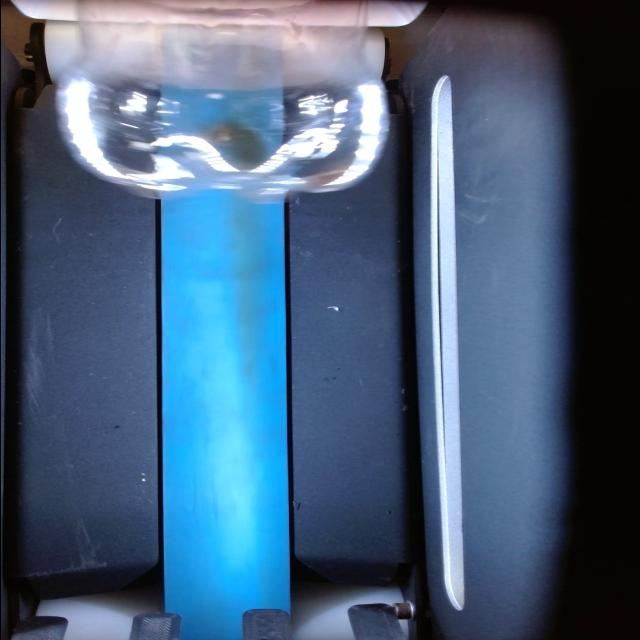bottom: (41, 90, 404, 202)
